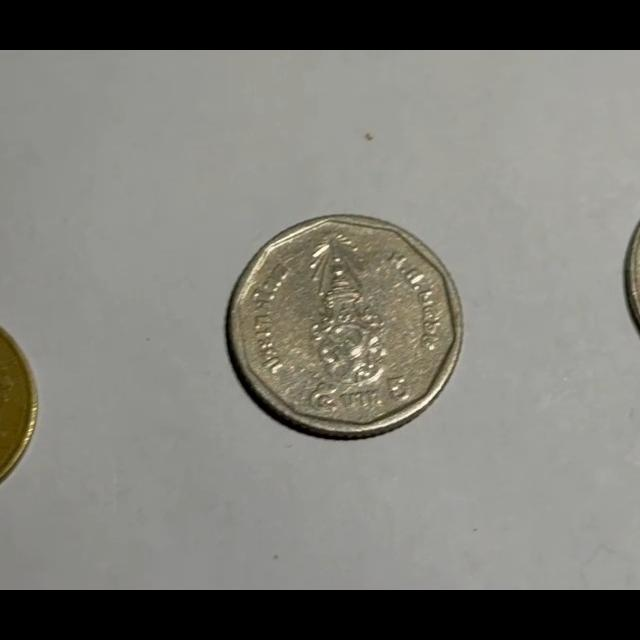5-baht: (224, 212, 463, 439)
